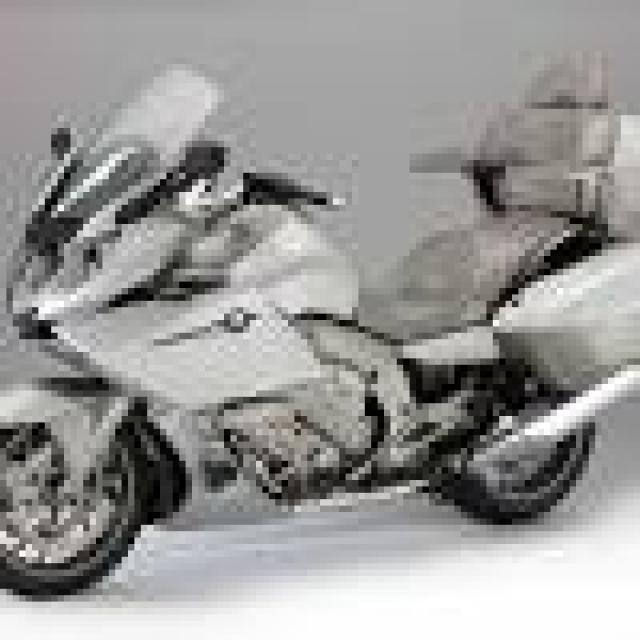Bike: (0, 50, 640, 600)
